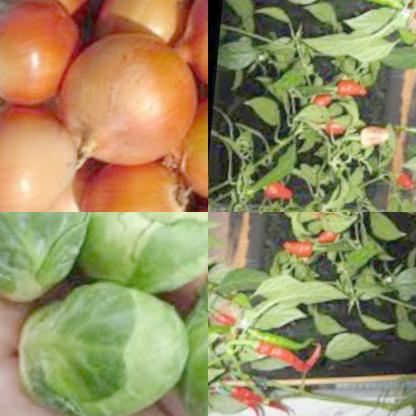brus capusta: (13, 282, 208, 416), (0, 212, 105, 335), (98, 212, 208, 286), (174, 240, 208, 410)
hot pepper: (241, 322, 333, 375), (213, 377, 300, 416), (208, 295, 250, 334), (357, 124, 400, 157), (324, 0, 416, 15), (265, 180, 306, 205), (341, 80, 376, 102), (282, 236, 317, 258), (312, 224, 339, 246), (318, 92, 345, 113), (330, 118, 356, 139), (398, 170, 416, 197), (301, 212, 327, 220)
onion: (0, 0, 208, 212)
